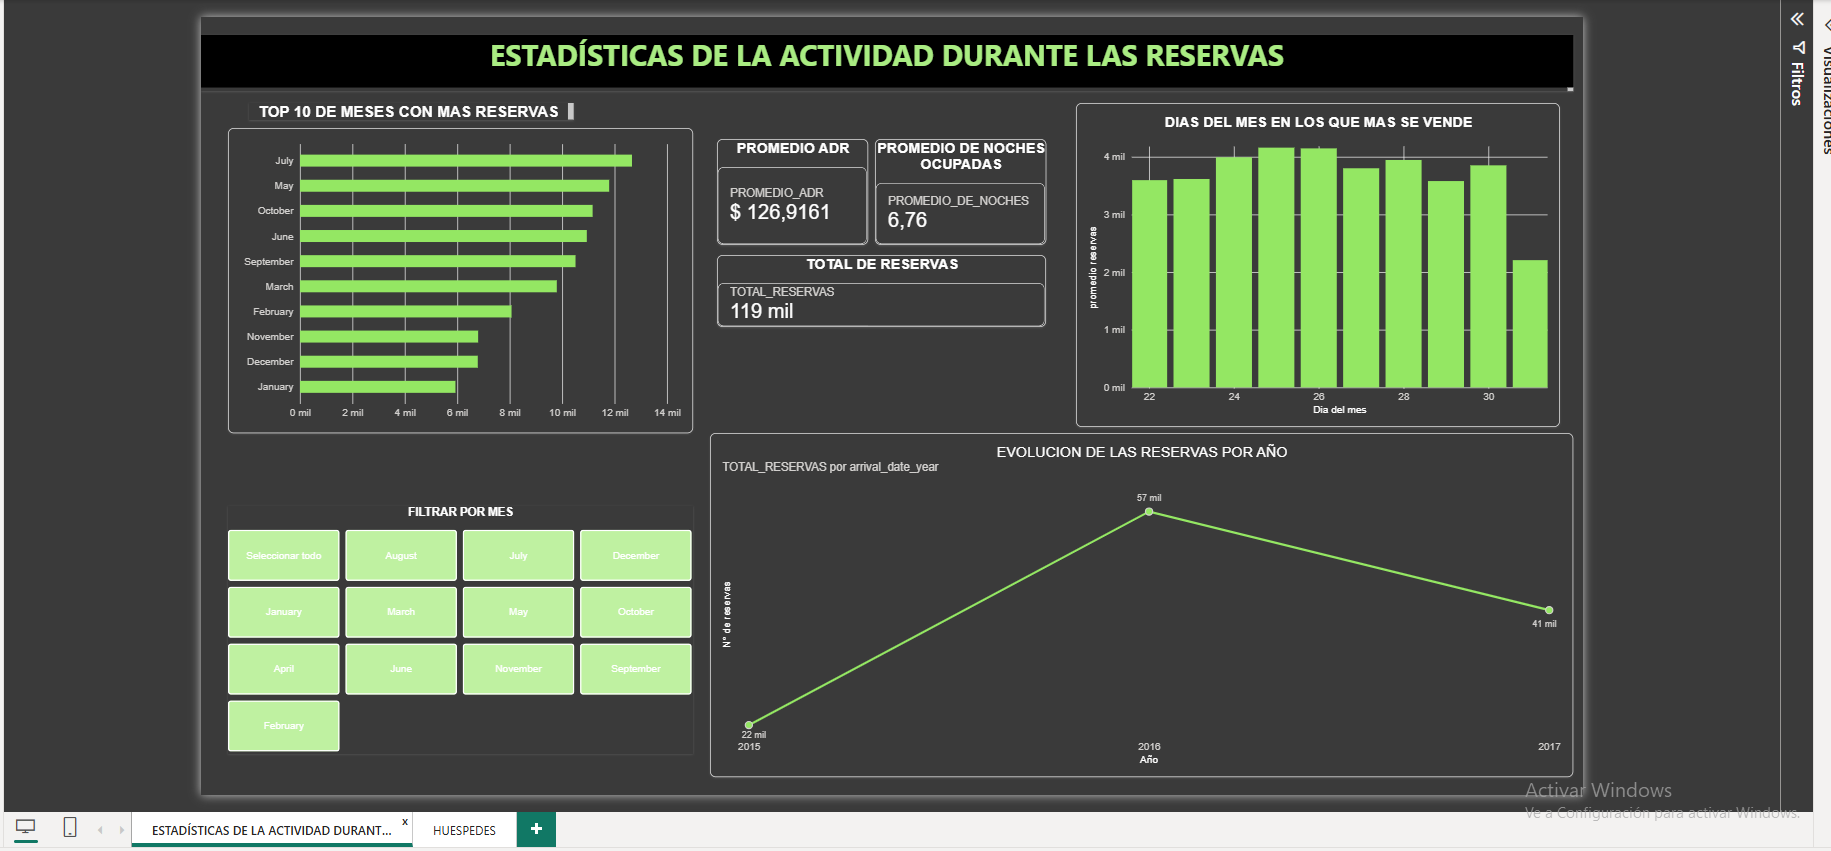

The page's visual inventory and layout, read from the dashboard file:
{"tool":"powerbi","page":{"name":"ESTADÍSTICAS DE LA ACTIVIDAD DURANTE LAS RESERVAS","canvas":[1920,1080],"ordinal":0},"visuals":[{"type":"cardVisual","title":"TOTAL DE RESERVAS","fields":{"Data":["public fact_reservations.TOTAL_RESERVAS"]},"box":[716.7,330.6,456.9,100],"z":0},{"type":"cardVisual","title":"PROMEDIO ADR","fields":{"Data":["public dim_sales.PROMEDIO_ADR"]},"box":[716.7,169.4,209.7,147.2],"z":1000},{"type":"cardVisual","title":"PROMEDIO DE NOCHES OCUPADAS","fields":{"Data":["public dim_guest_stays.PROMEDIO_DE_NOCHES"]},"box":[936.1,169.4,237.5,147.2],"z":2000},{"type":"lineChart","title":"EVOLUCION DE LAS RESERVAS POR AÑO","fields":{"Category":["public dim_dates.arrival_date_year"],"Y":["public fact_reservations.TOTAL_RESERVAS"]},"box":[706.9,577.8,1198.6,477.8],"z":3000},{"type":"barChart","title":"TOP 10 DE MESES CON MAS RESERVAS","fields":{"Category":["public dim_dates.arrival_date_month"],"Y":["public fact_reservations.TOTAL_RESERVAS"]},"box":[37.5,154.2,645.8,423.6],"z":4000},{"type":"advancedSlicerVisual","title":" FILTRAR POR MES","fields":{"Values":["public dim_dates.arrival_date_month"]},"box":[37.5,679.2,645.8,344.4],"z":5000},{"type":"textbox","box":[66.7,119.4,451.4,23.6],"z":6000},{"type":"clusteredColumnChart","title":"DIAS DEL MES EN LOS QUE MAS SE VENDE","fields":{"Y":["public fact_reservations.TOTAL_RESERVAS"],"Category":["public dim_dates.arrival_date_day_of_month"]},"box":[1215.3,119.4,672.2,450],"z":7000},{"type":"textbox","title":"ESTADÍSTICAS DE LA ACTIVIDAD DURANTE LAS RESERVAS","box":[0,25,1905.6,77.8],"z":8000}]}

Visuals, with their boxes on the page's 1920x1080 design canvas (x1, y1, x2, y2). These are canvas units, not pixel positions in the 1831x851 screenshot, which may show the page scaled, cropped or inside an application window:
"TOTAL DE RESERVAS" cardVisual: box=[717, 331, 1174, 431]
"PROMEDIO ADR" cardVisual: box=[717, 169, 926, 317]
"PROMEDIO DE NOCHES OCUPADAS" cardVisual: box=[936, 169, 1174, 317]
"EVOLUCION DE LAS RESERVAS POR AÑO" lineChart: box=[707, 578, 1906, 1056]
"TOP 10 DE MESES CON MAS RESERVAS" barChart: box=[38, 154, 683, 578]
" FILTRAR POR MES" advancedSlicerVisual: box=[38, 679, 683, 1024]
textbox: box=[67, 119, 518, 143]
"DIAS DEL MES EN LOS QUE MAS SE VENDE" clusteredColumnChart: box=[1215, 119, 1888, 569]
"ESTADÍSTICAS DE LA ACTIVIDAD DURANTE LAS RESERVAS" textbox: box=[0, 25, 1906, 103]
